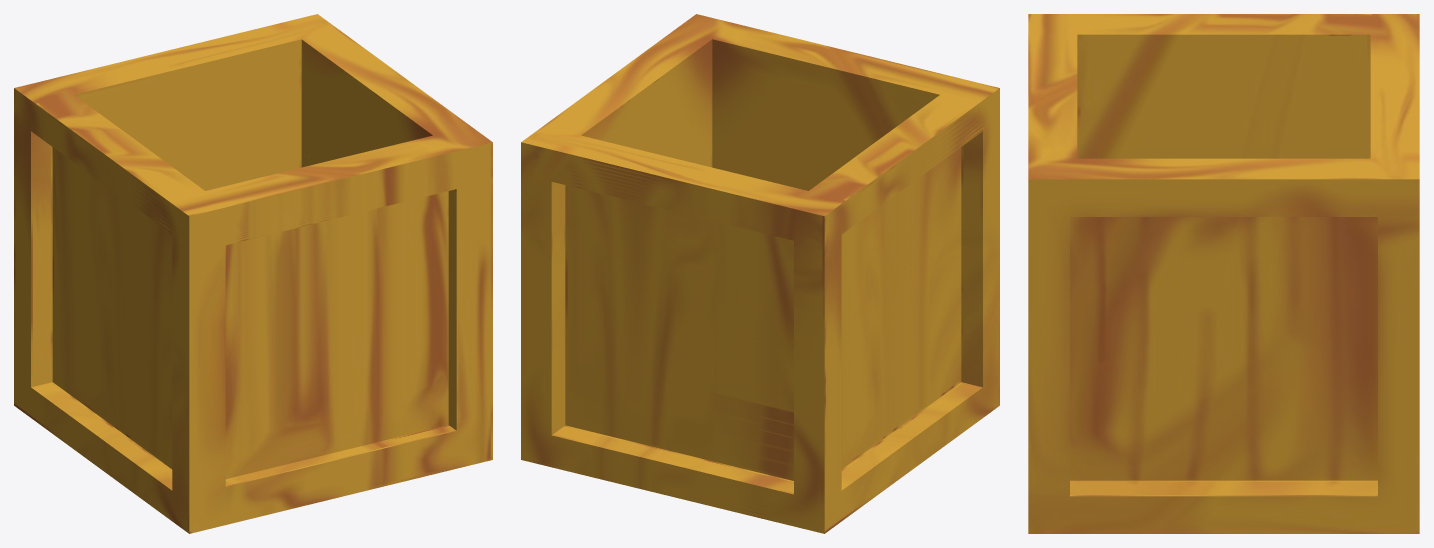
Rendered from Box2_prefab.fbx.
3 views of the same model, side by side, from view 1: azimuth 30°, elevation 25°; view 2: azimuth 150°, elevation 25°; view 3: azimuth 270°, elevation 25° (orthographic). The views are drawn at different scales.
Parts seen in each view (by area): view 1: Caja LP; view 2: Caja LP; view 3: Caja LP.
Boxes of the visible parts, left/top/right/bottom form: Caja LP: left=14, top=14, right=492, bottom=533; Caja LP: left=521, top=14, right=999, bottom=533; Caja LP: left=1028, top=14, right=1419, bottom=533.
Bounding box in the file's own units: 2 × 2 × 2.
1 material, 1 textured.
